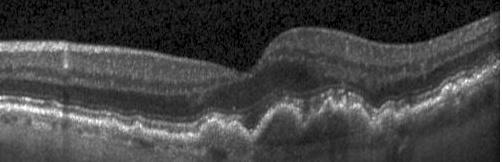retinal_drusen: (257, 108, 370, 146), (198, 122, 253, 159), (440, 85, 460, 104), (382, 111, 396, 128), (404, 110, 413, 122), (134, 127, 143, 136), (111, 121, 119, 131)
